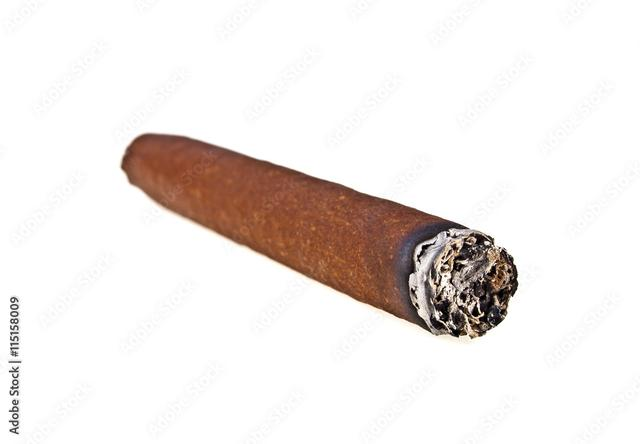Cigar: (119, 130, 519, 341)
